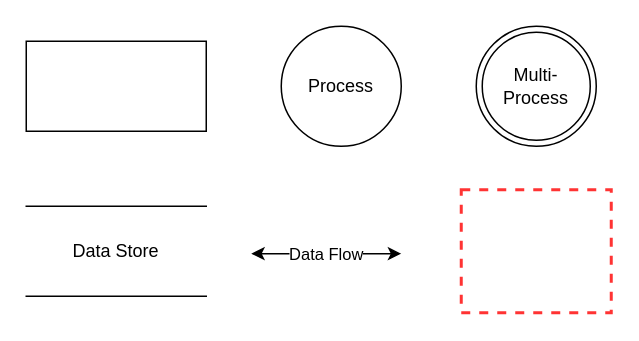
This 639x341 diagram has some shape labels left out. Here are the shapes that lost their labels. From the top down, the box of each, then its label:
(25, 40, 206, 131): External Entity
(459, 188, 612, 314): Trust Boundary
